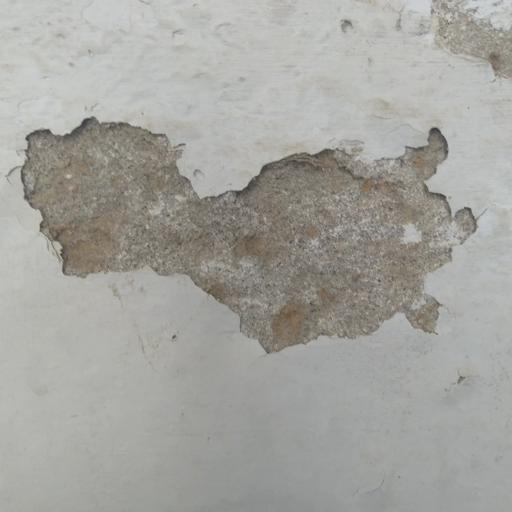spalling: (14, 100, 485, 360)
